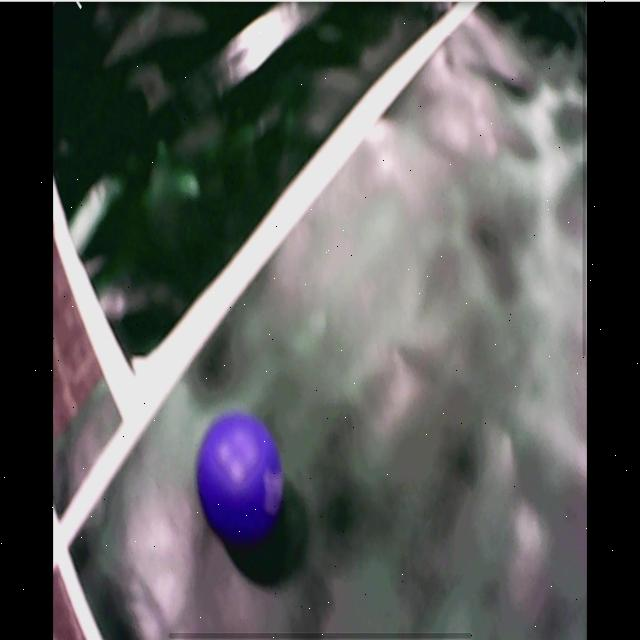ball: (198, 415, 284, 534)
